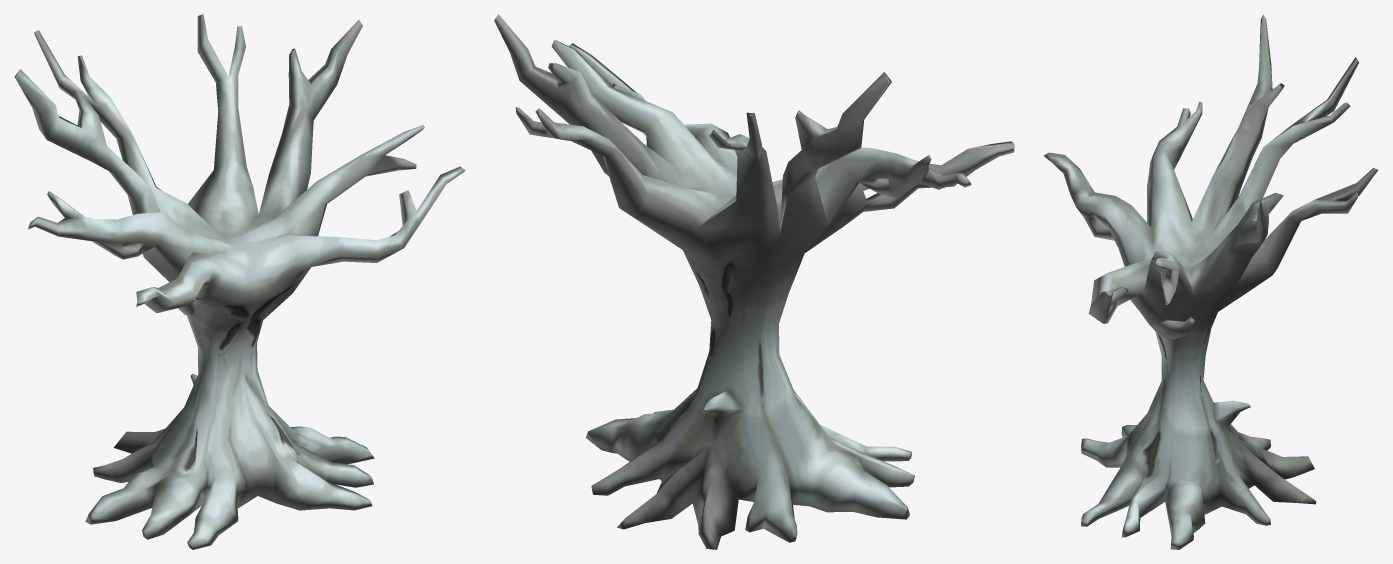
File: TreeOfLife.fbx
3 views of the same model, side by side, from view 1: azimuth 30°, elevation 25°; view 2: azimuth 150°, elevation 25°; view 3: azimuth 270°, elevation 25° (orthographic). The views are drawn at different scales.
Visible parts, largest first — view 1: Tree_Of_Life:Mesh; view 2: Tree_Of_Life:Mesh; view 3: Tree_Of_Life:Mesh.
Part boxes in pixels (box(x1,y1,x2,y2)): Tree_Of_Life:Mesh: box(14, 14, 465, 549); Tree_Of_Life:Mesh: box(494, 14, 1014, 549); Tree_Of_Life:Mesh: box(1044, 14, 1378, 549).
Bounding box in the file's own units: 2.79 × 2.88 × 2.2.
